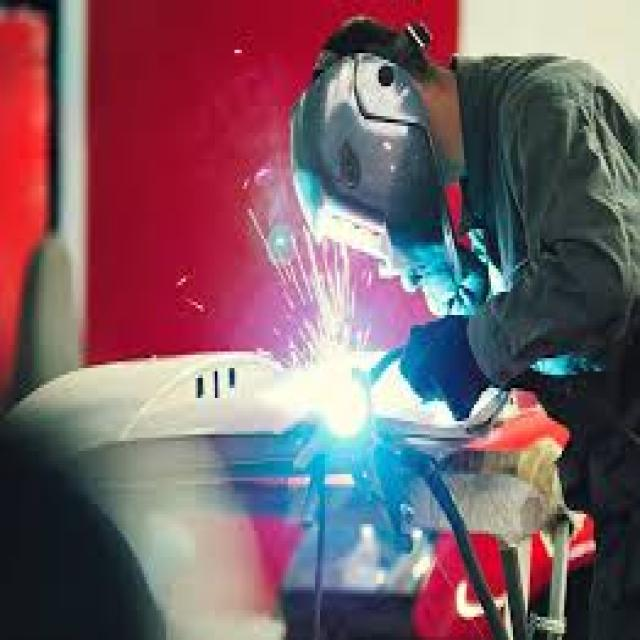welding: (321, 381, 371, 441)
